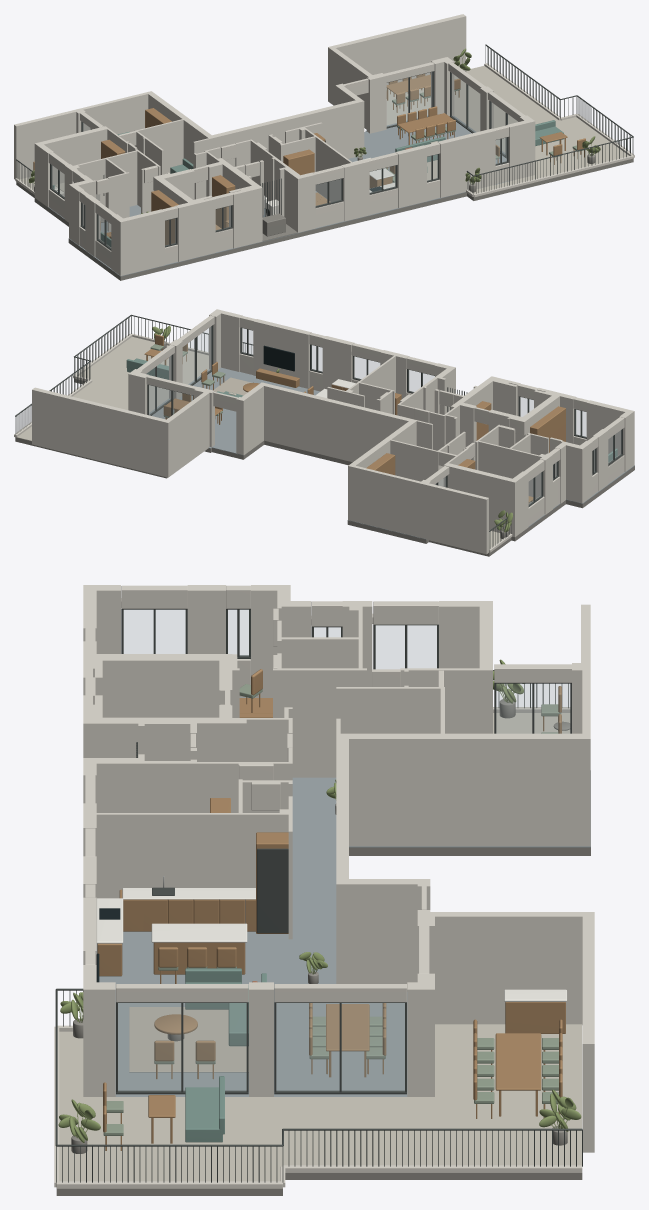
The model's file is type-pa.glb.
The picture shows the model from 3 angles, top to bottom: view 1: azimuth 30°, elevation 25°; view 2: azimuth 150°, elevation 25°; view 3: azimuth 270°, elevation 25°; orthographic projection. The views are drawn at different scales.
Parts seen in each view (by area): view 1: PA PDF wall 1239, PA PDF wall 1234, Main terrace deck, PA PDF wall 1241, PA PDF wall 1250, PA PDF wall 1242, PA PDF wall 1245, PA PDF wall 1244, PA PDF wall 1247, PA PDF wall 1238, PA PDF wall 1246, PA stone floor (+29 smaller); view 2: PA PDF wall 1239, PA PDF wall 1234, Main terrace deck, PA PDF wall 1250, PA PDF wall 1246, PA PDF wall 1244, PA PDF wall 1241, PA PDF wall 1238, PA stone floor, PA PDF wall 1249, PA PDF wall 1245, PA PDF wall 1247 (+23 smaller); view 3: PA PDF wall 1239, Main terrace deck, PA stone floor, PA PDF wall 1234, PA PDF wall 1241, Dining east sliders | glazing, Living east sliders | glazing, PA PDF wall 1250, PA PDF wall 1244, PA PDF wall 1245, PA PDF wall 1242, PA PDF wall 1246 (+35 smaller).
Boxes of the visible parts, x1,y1,x2,y2 form: PA PDF wall 1239: [14, 83, 364, 179]; PA PDF wall 1234: [328, 14, 466, 133]; Main terrace deck: [386, 66, 628, 193]; PA PDF wall 1241: [268, 122, 369, 221]; PA PDF wall 1250: [64, 149, 160, 231]; PA PDF wall 1242: [235, 139, 315, 232]; PA PDF wall 1245: [154, 169, 215, 261]; PA PDF wall 1244: [193, 147, 262, 248]; PA PDF wall 1247: [111, 209, 164, 275]; PA PDF wall 1238: [438, 128, 495, 197]; PA PDF wall 1246: [34, 126, 128, 206]; PA stone floor: [48, 115, 508, 276]; PA PDF wall 1239: [236, 382, 488, 554]; PA PDF wall 1234: [32, 387, 214, 477]; Main terrace deck: [16, 336, 208, 441]; PA PDF wall 1250: [475, 424, 552, 514]; PA PDF wall 1246: [443, 448, 528, 536]; PA PDF wall 1244: [429, 376, 520, 460]; PA PDF wall 1241: [327, 350, 409, 414]; PA PDF wall 1238: [253, 319, 311, 388]; PA stone floor: [149, 367, 634, 539]; PA PDF wall 1249: [555, 440, 592, 503]; PA PDF wall 1245: [488, 388, 576, 443]; PA PDF wall 1247: [586, 400, 634, 471]; PA PDF wall 1239: [336, 604, 590, 991]; Main terrace deck: [59, 1024, 582, 1181]; PA stone floor: [96, 697, 590, 1096]; PA PDF wall 1234: [417, 910, 594, 1152]; PA PDF wall 1241: [83, 779, 292, 939]; Dining east sliders | glazing: [276, 1003, 404, 1090]; Living east sliders | glazing: [118, 1003, 246, 1090]; PA PDF wall 1250: [273, 601, 372, 777]; PA PDF wall 1244: [83, 695, 292, 761]; PA PDF wall 1245: [83, 641, 239, 717]; PA PDF wall 1242: [83, 748, 292, 812]; PA PDF wall 1246: [400, 601, 492, 733].
Size of the model in its own units: 27.92 by 3.07 by 12.87.
